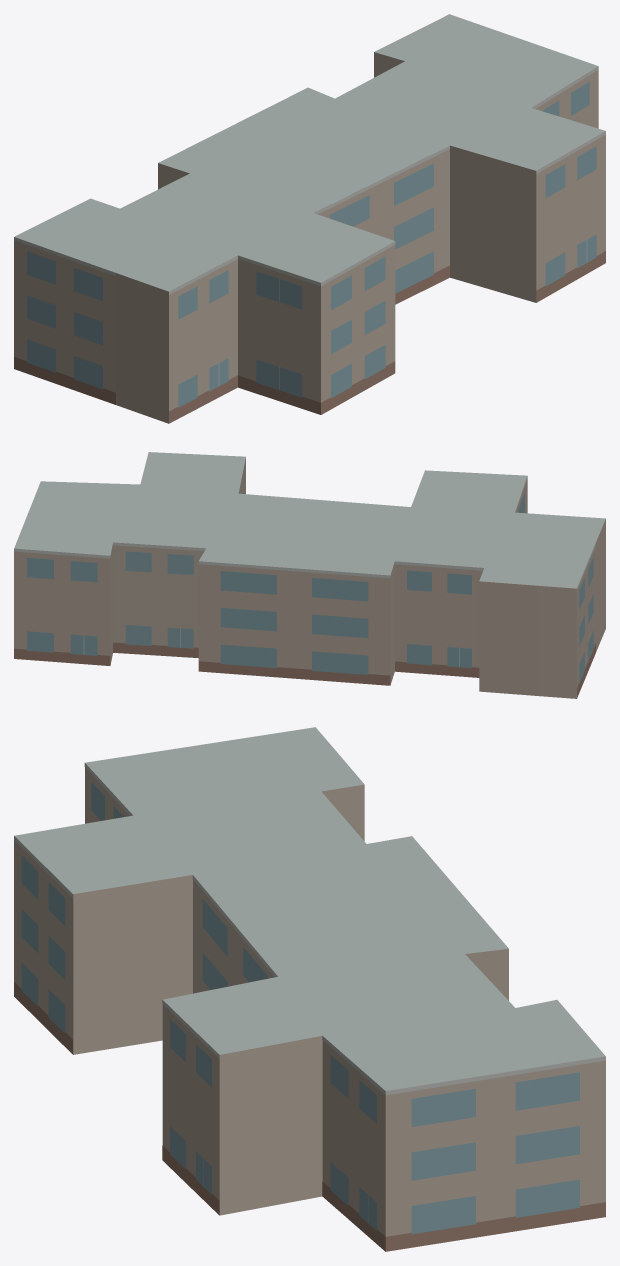
The model's file is survey-upis-32840521.glb.
The picture shows the model from 3 angles, top to bottom: view 1: azimuth 30°, elevation 25°; view 2: azimuth 150°, elevation 25°; view 3: azimuth 270°, elevation 25°; orthographic projection. The views are drawn at different scales.
Visible parts, largest first — view 1: survey-upis-32840521.tmp; view 2: survey-upis-32840521.tmp; view 3: survey-upis-32840521.tmp.
Boxes of the visible parts, x1,y1,x2,y2 form: survey-upis-32840521.tmp: (14, 14, 605, 423); survey-upis-32840521.tmp: (14, 452, 605, 698); survey-upis-32840521.tmp: (14, 727, 605, 1251).
Bounding box in the file's own units: 44.46 × 9.15 × 30.55.
